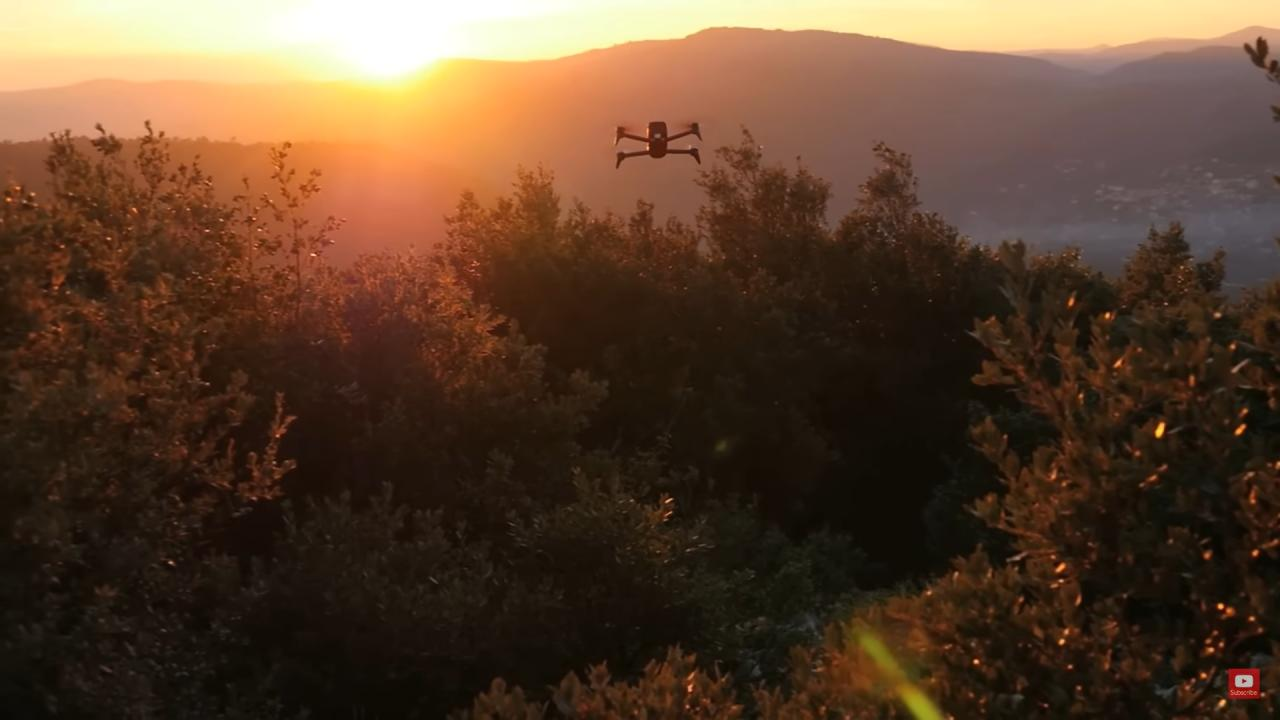Drone: (605, 108, 709, 176)
